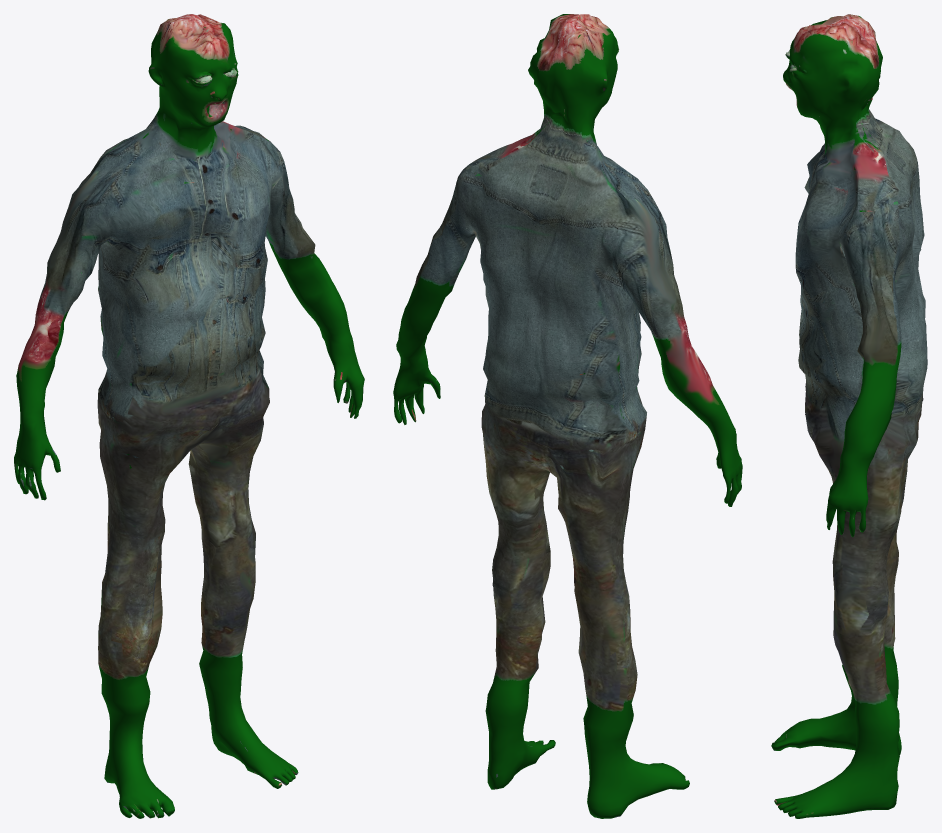
File: ZombieRemodel.fbx
3 renders of one model, left to right at view 1: azimuth 30°, elevation 25°; view 2: azimuth 150°, elevation 25°; view 3: azimuth 270°, elevation 25°, orthographic.
Visible parts, largest first — view 1: Realistic_White_Male_Low_Poly; view 2: Realistic_White_Male_Low_Poly; view 3: Realistic_White_Male_Low_Poly.
Boxes of the visible parts, box(x1,y1,x2,y2) form: Realistic_White_Male_Low_Poly: box(14, 14, 364, 818); Realistic_White_Male_Low_Poly: box(393, 14, 742, 818); Realistic_White_Male_Low_Poly: box(771, 14, 927, 818).
Bounding box in the file's own units: 83.2 × 179 × 33.11.
Materials: 1 (1 with a texture image).
